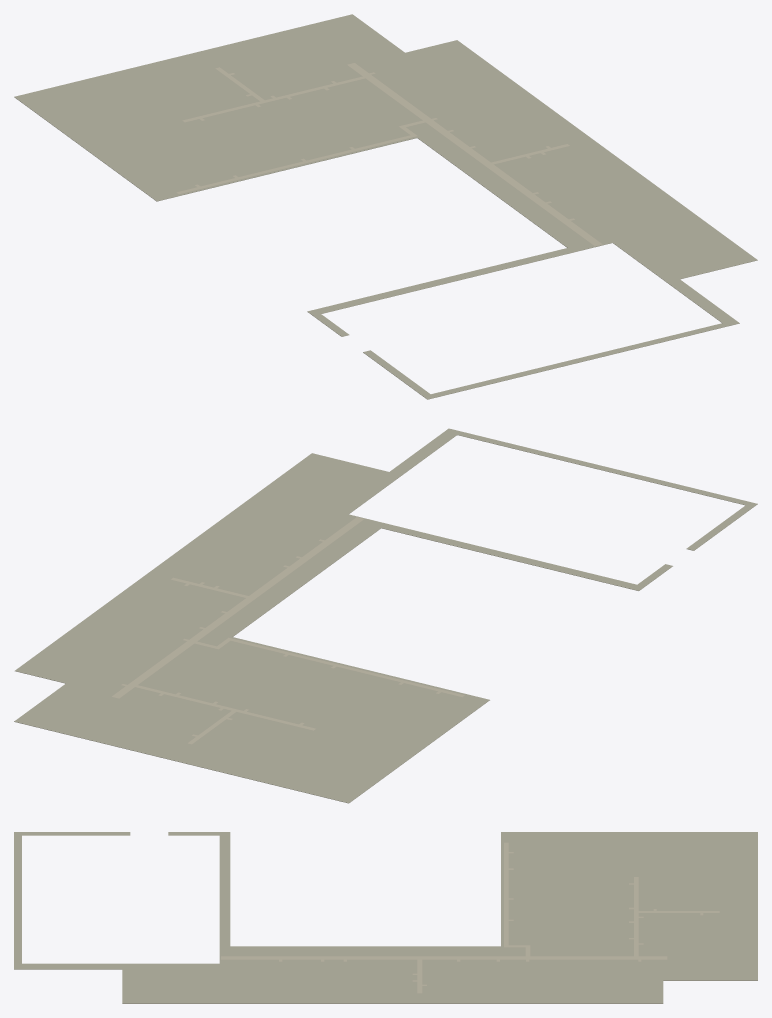
File: retained.glb
The picture shows the model from 3 angles, top to bottom: view 1: azimuth 30°, elevation 25°; view 2: azimuth 150°, elevation 25°; view 3: azimuth 270°, elevation 25°; orthographic projection. The views are drawn at different scales.
Visible parts, largest first — view 1: C02_retained_outside_south_Calt_domain; view 2: C02_retained_outside_south_Calt_domain; view 3: C02_retained_outside_south_Calt_domain.
Boxes of the visible parts, x1,y1,x2,y2 form: C02_retained_outside_south_Calt_domain: [14, 14, 757, 399]; C02_retained_outside_south_Calt_domain: [14, 428, 757, 803]; C02_retained_outside_south_Calt_domain: [14, 832, 757, 1003].
Size of the model in its own units: 300 by 0.21 by 550.
